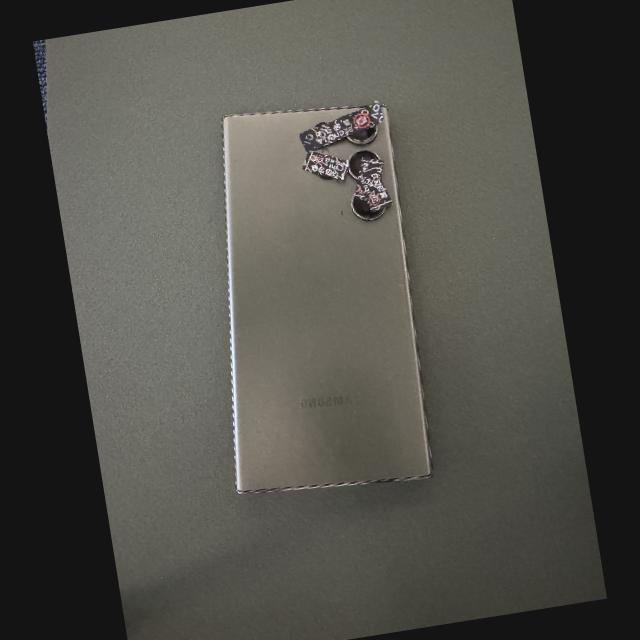lens: (347, 150, 378, 178), (351, 197, 383, 219), (347, 126, 376, 143), (315, 123, 325, 128)
phone: (223, 99, 432, 492)
sticker: (299, 102, 384, 153), (359, 166, 393, 212), (302, 150, 350, 181), (354, 157, 384, 201)
